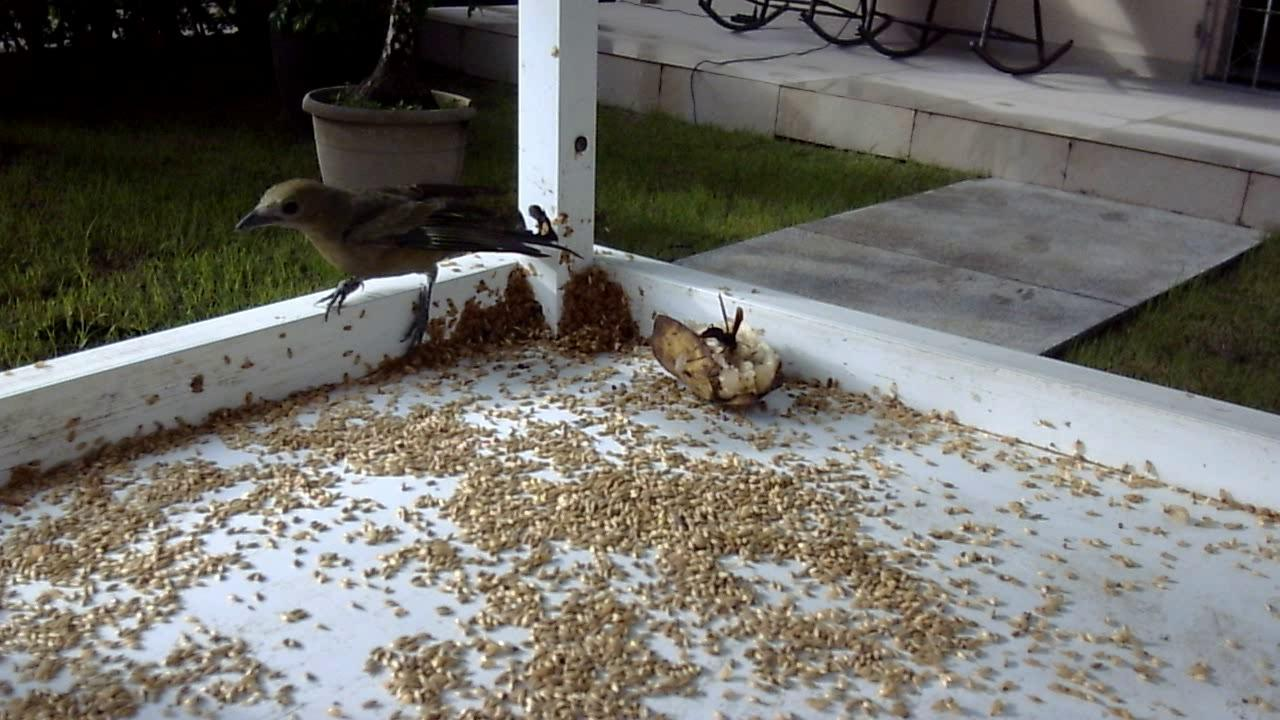sanhaco_do_coqueiro: (230, 168, 573, 332)
